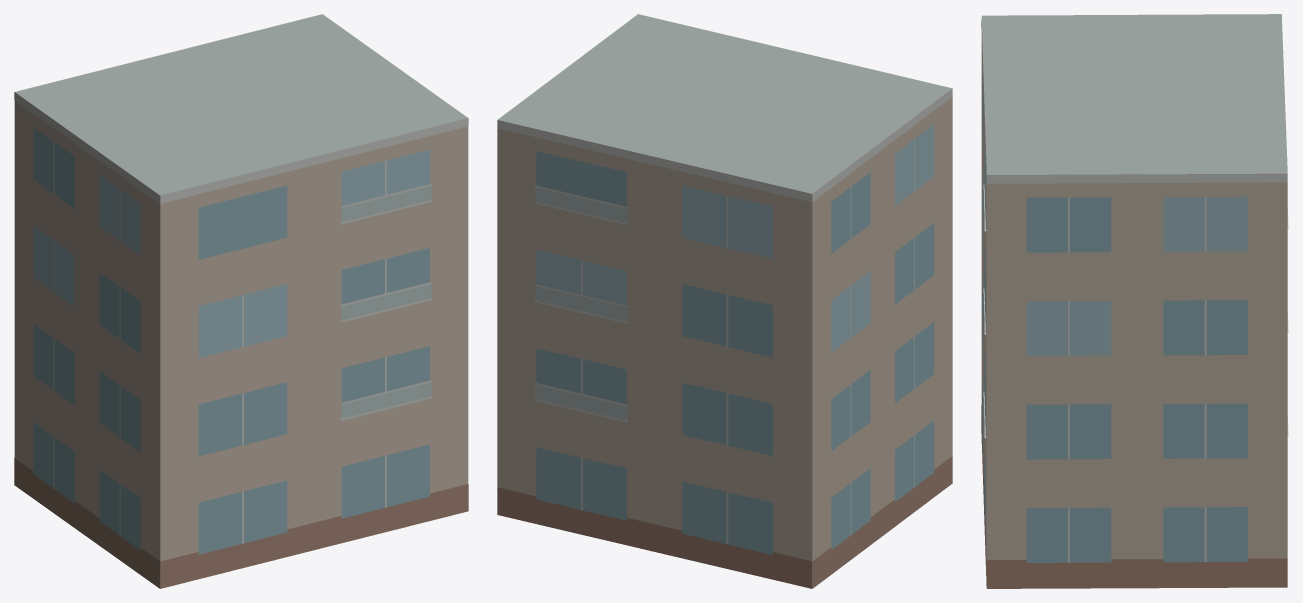
File: survey-upis-32965140.glb
3 views of the same model, side by side, from view 1: azimuth 30°, elevation 25°; view 2: azimuth 150°, elevation 25°; view 3: azimuth 270°, elevation 25° (orthographic). The views are drawn at different scales.
Parts seen in each view (by area): view 1: survey-upis-32965140.tmp; view 2: survey-upis-32965140.tmp; view 3: survey-upis-32965140.tmp.
Boxes of the visible parts, x1,y1,x2,y2 form: survey-upis-32965140.tmp: (14,14,468,588); survey-upis-32965140.tmp: (497,14,952,588); survey-upis-32965140.tmp: (981,14,1288,588).
Size of the model in its own units: 9.65 by 11.55 by 7.77.
